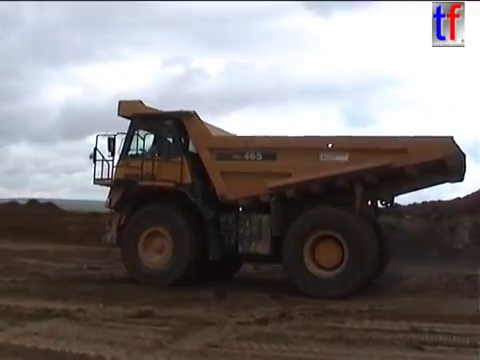truck: (86, 97, 468, 301)
